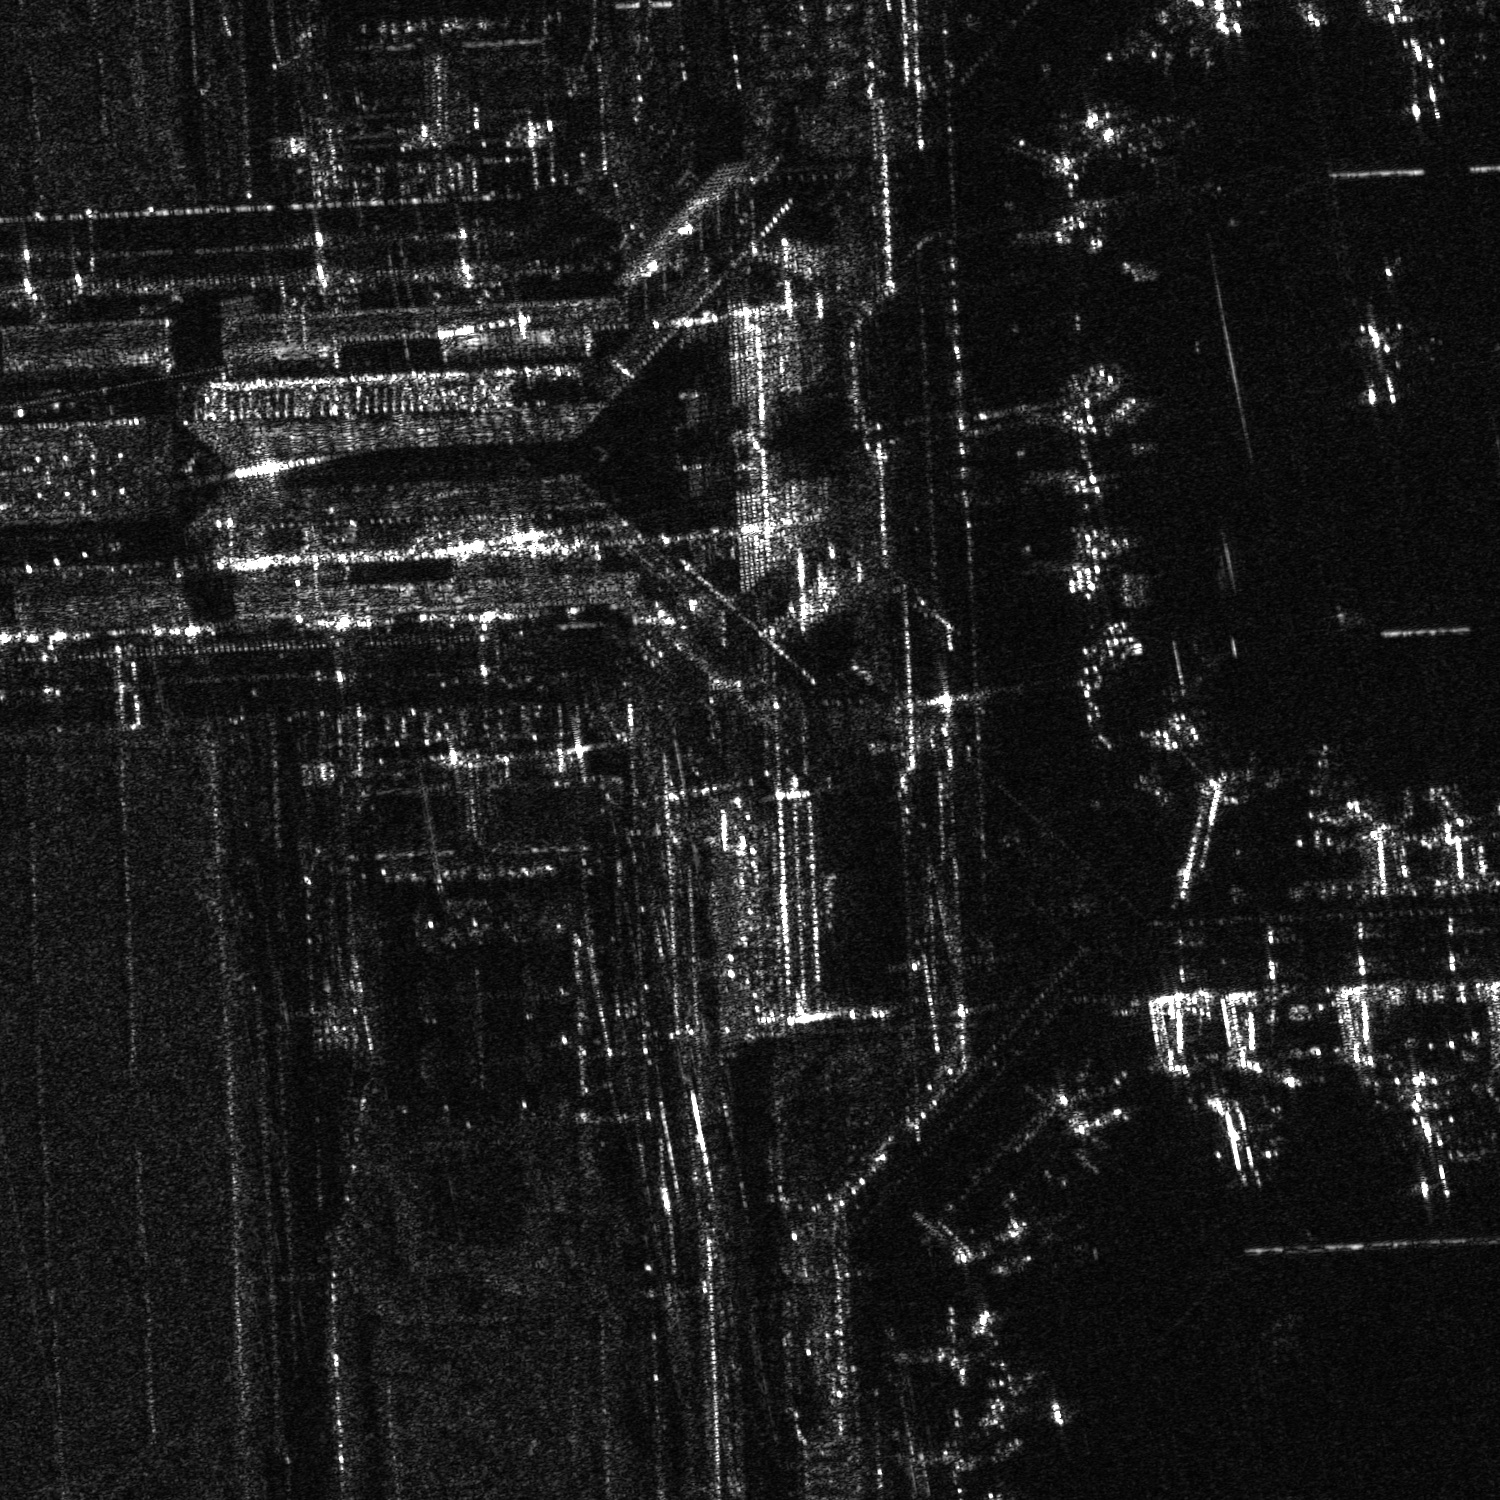A220: (1190, 1088, 1284, 1191)
A320/321: (929, 1216, 1043, 1310)
Boeing737: (1043, 1089, 1135, 1159)
Boeing787: (1359, 1065, 1466, 1198), (1378, 25, 1459, 124)
other: (1341, 321, 1413, 408)
